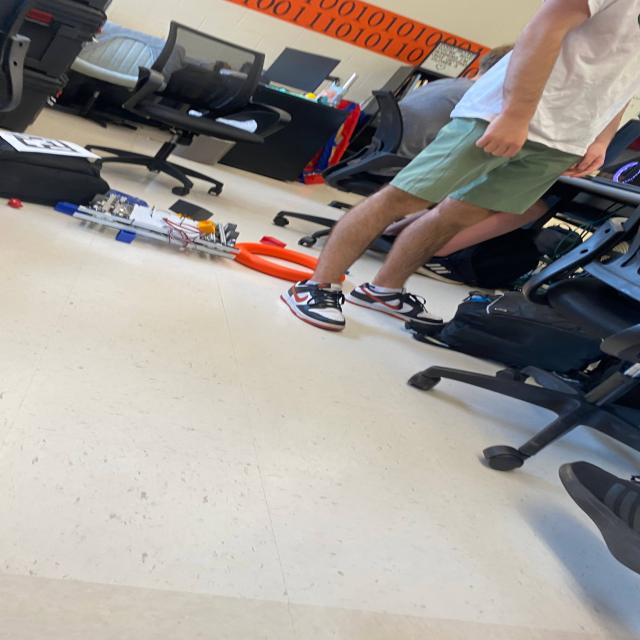blue-specimen: (54, 202, 79, 216), (115, 230, 136, 243)
red-specimen: (259, 236, 286, 248)
yellow-specimen: (198, 220, 215, 234)
